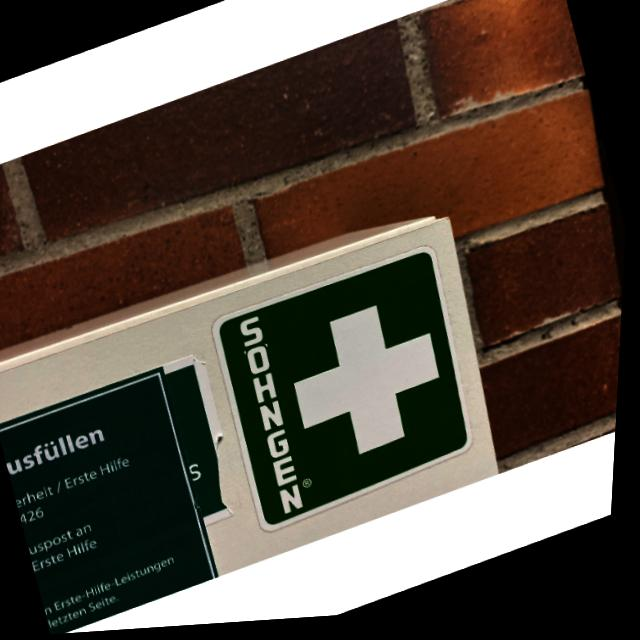first aid kit: (201, 240, 502, 541)
